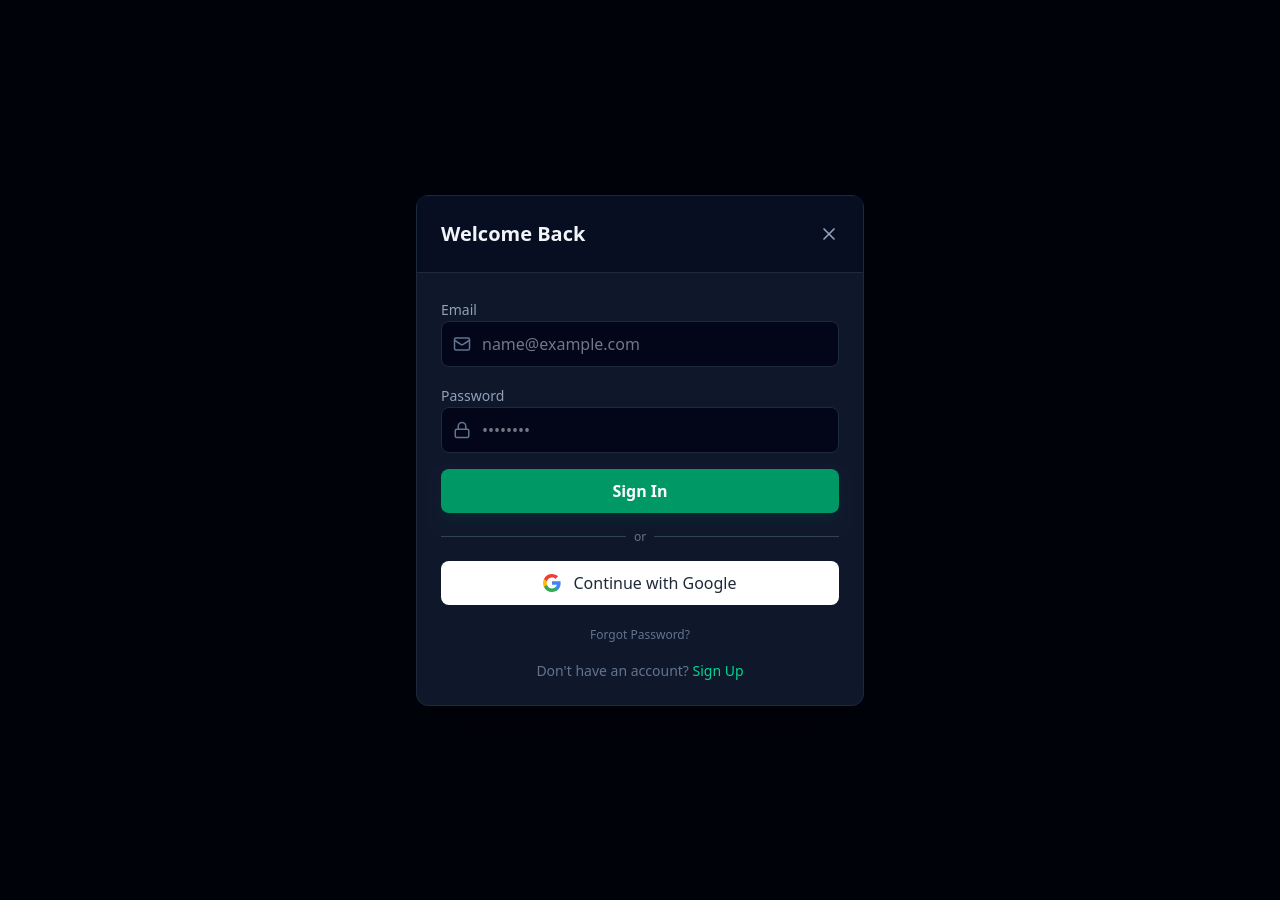
Test: AuthModal › switches to password reset mode
What coordinates should you click on to do the following:
click the button "Forgot Password?"
I would click on:
 (640, 634)
Its box is [590, 626, 690, 642].
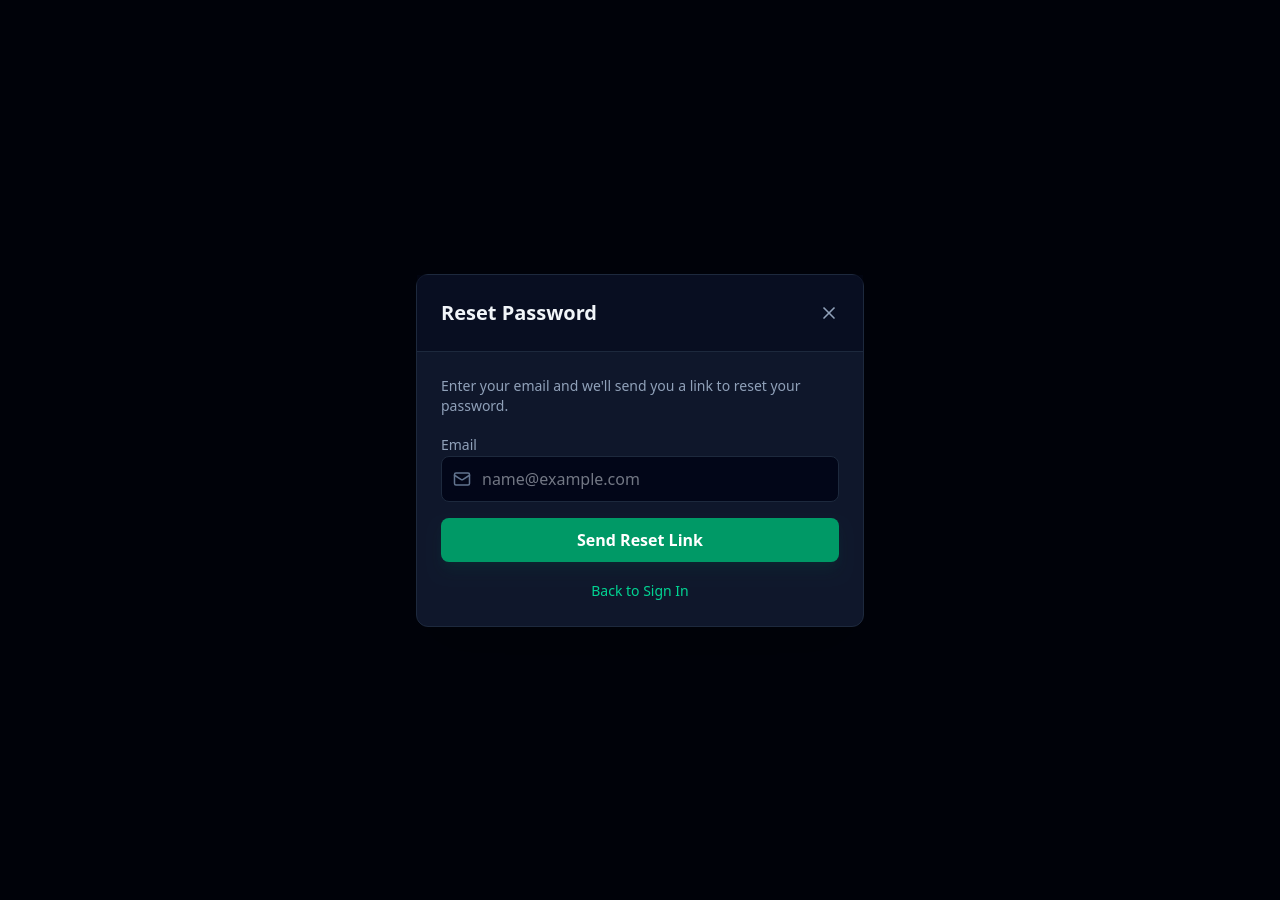
Expected: the heading "Reset Password" is shown, [441, 298, 597, 326]
